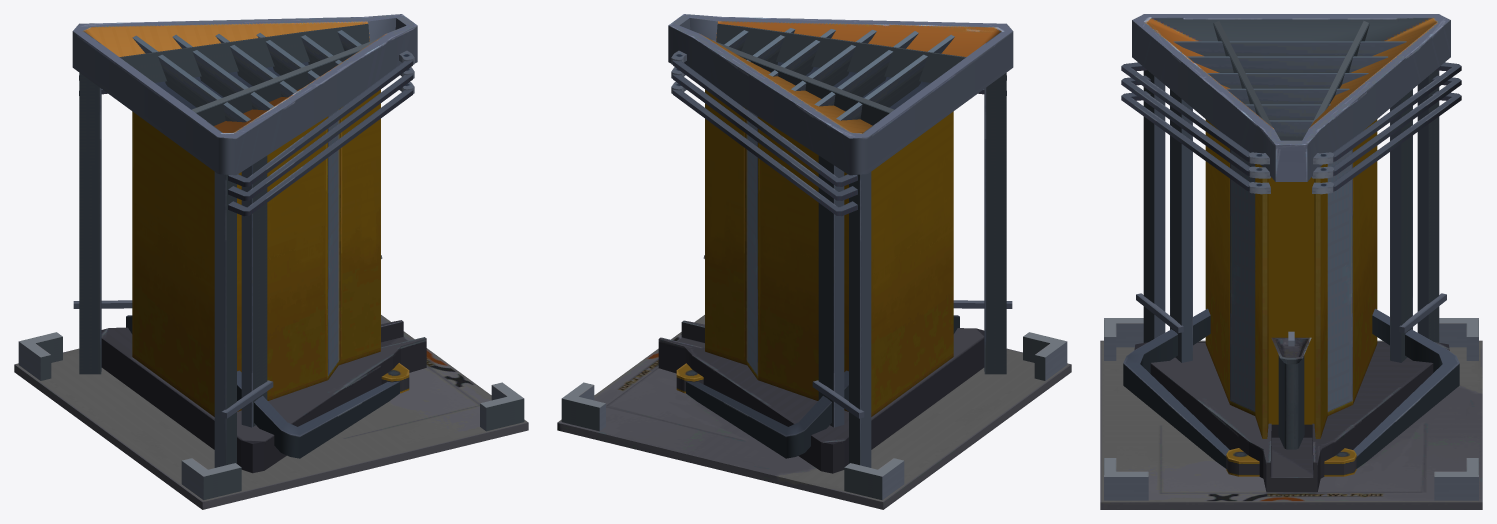
File: trap_206_mufrbk2.fbx
3 views of the same model, side by side, from view 1: azimuth 30°, elevation 25°; view 2: azimuth 150°, elevation 25°; view 3: azimuth 270°, elevation 25° (orthographic).
Parts seen in each view (by area): view 1: trap_206_mufrbk2; view 2: trap_206_mufrbk2; view 3: trap_206_mufrbk2.
Part boxes in pixels (x1,y1,x2,y2): trap_206_mufrbk2: [14, 14, 528, 509]; trap_206_mufrbk2: [557, 14, 1071, 509]; trap_206_mufrbk2: [1100, 14, 1482, 509].
Bounding box in the file's own units: 0.9903 × 1.01 × 0.9903.
Materials: 1 (1 with a texture image).
